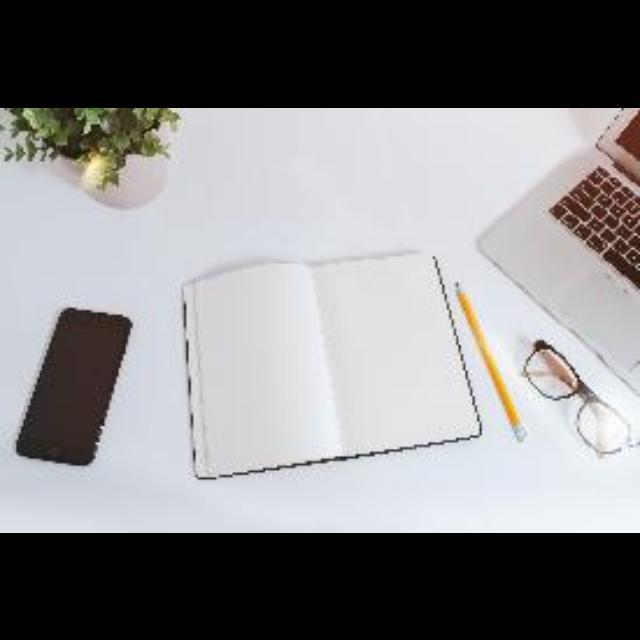Phone: (15, 310, 129, 468)
